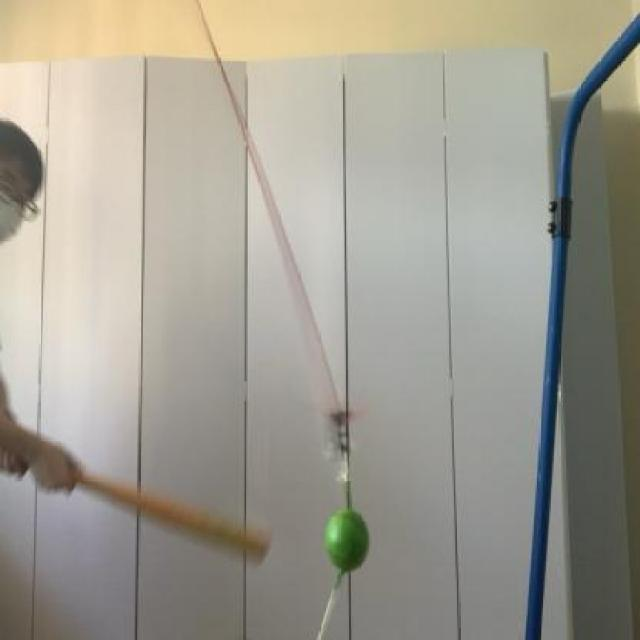baseball: (318, 496, 374, 572)
